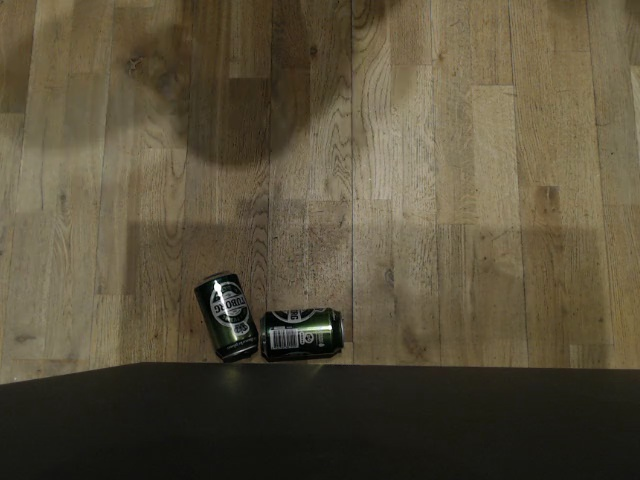beer: (194, 271, 258, 361), (260, 308, 344, 359)
